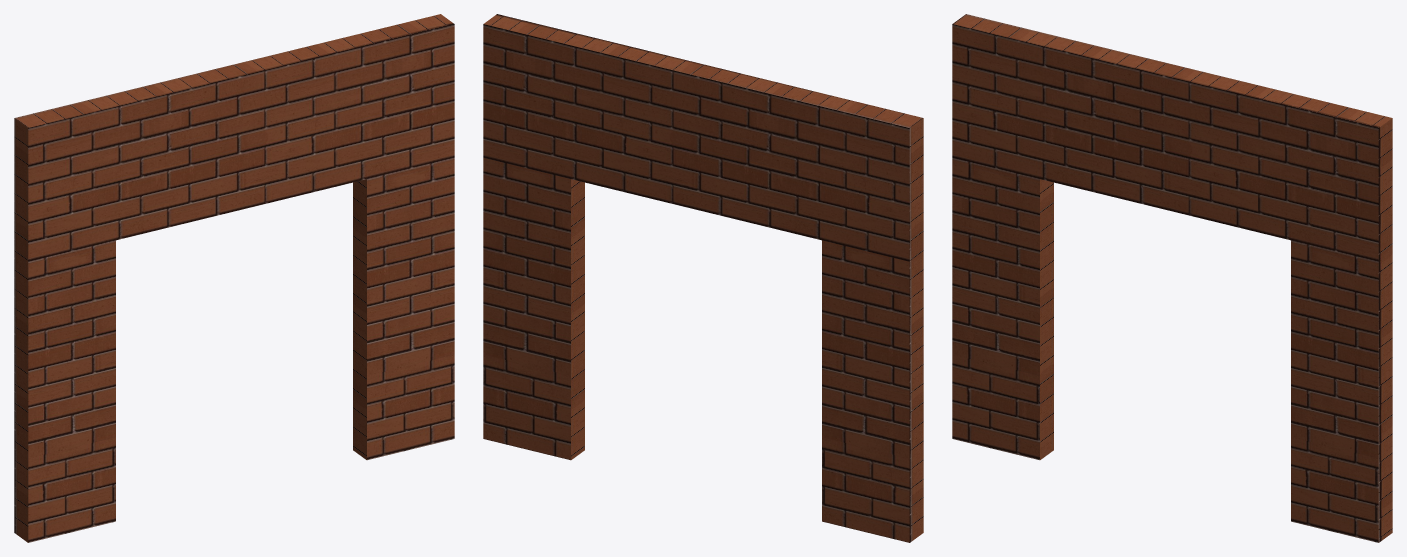
The picture shows the model from 3 angles, left to right: view 1: azimuth 30°, elevation 25°; view 2: azimuth 150°, elevation 25°; view 3: azimuth 330°, elevation 25°; orthographic projection.
Visible parts, largest first — view 1: A_Brick; view 2: A_Brick; view 3: A_Brick.
Boxes of the visible parts, x1,y1,x2,y2 form: A_Brick: (14,14,454,542); A_Brick: (483,14,923,542); A_Brick: (952,14,1392,542).
Bounding box in the file's own units: 2.89 × 2.69 × 0.1618.
1 material, 1 textured.
